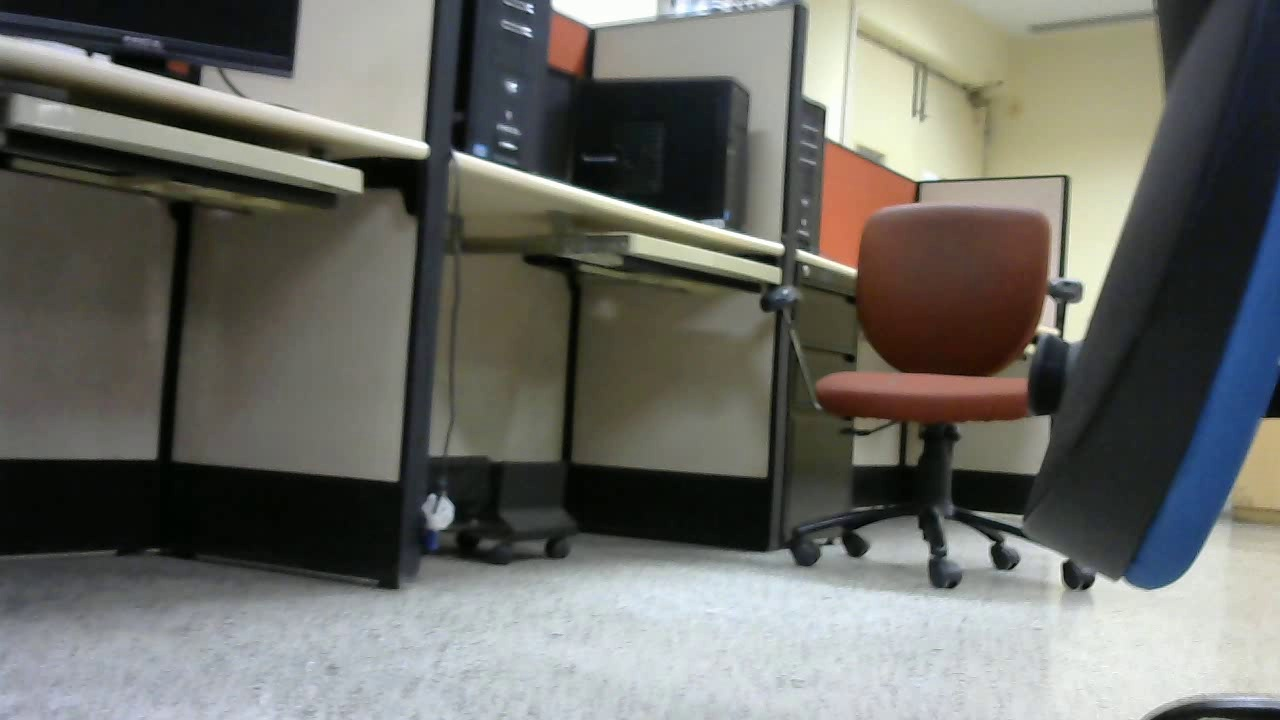chair: (766, 207, 1090, 592)
